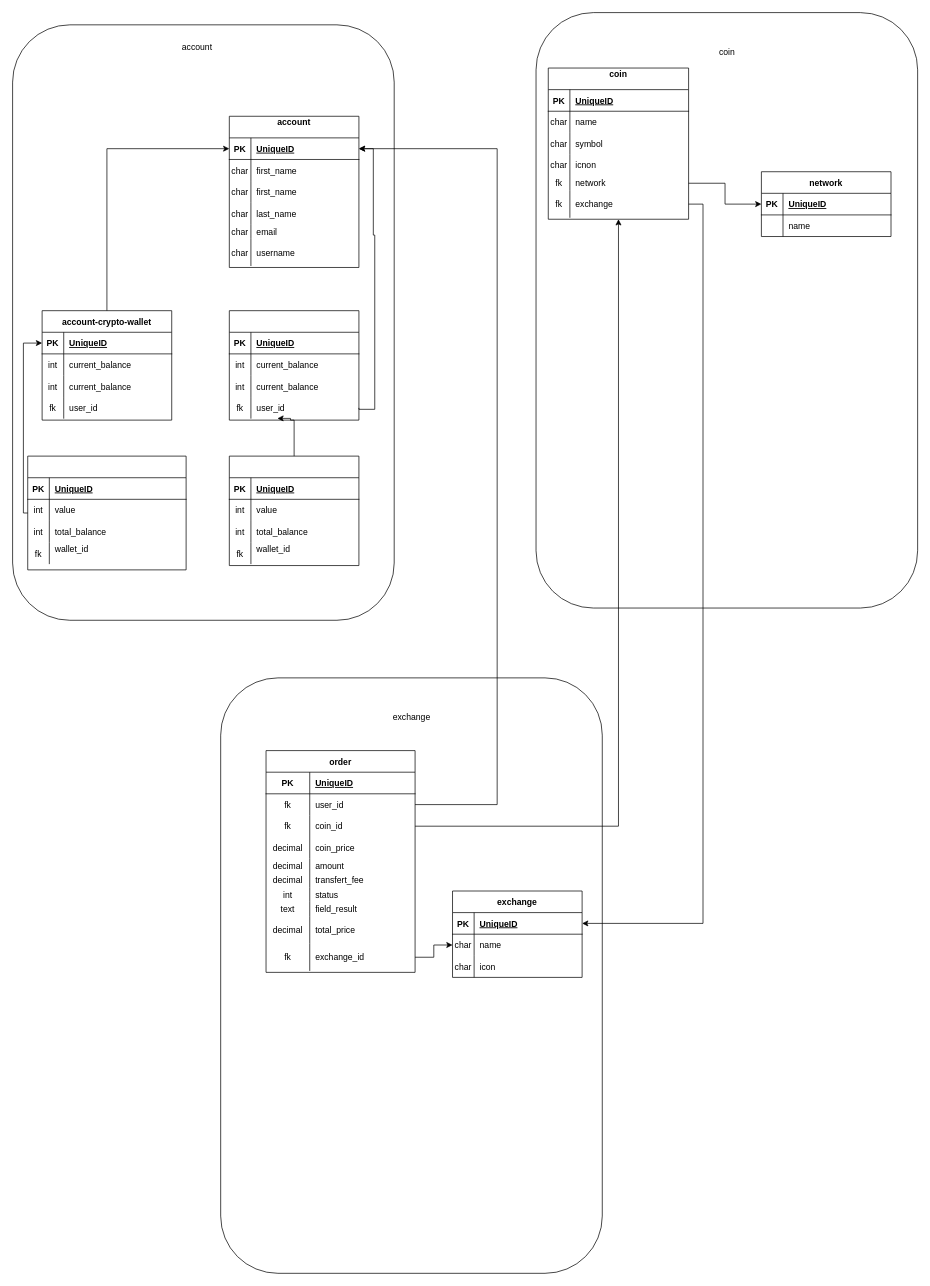
Image size: 930x1286. Some labels were removed from this diagram. The box of each missing label's shape, as (x1, y1, x2, y2) in pixels:
account-crypto-wallet-transaction: (27, 455, 186, 570)
account-wallet: (229, 310, 359, 420)
account-wallet-transaction: (229, 455, 359, 566)
